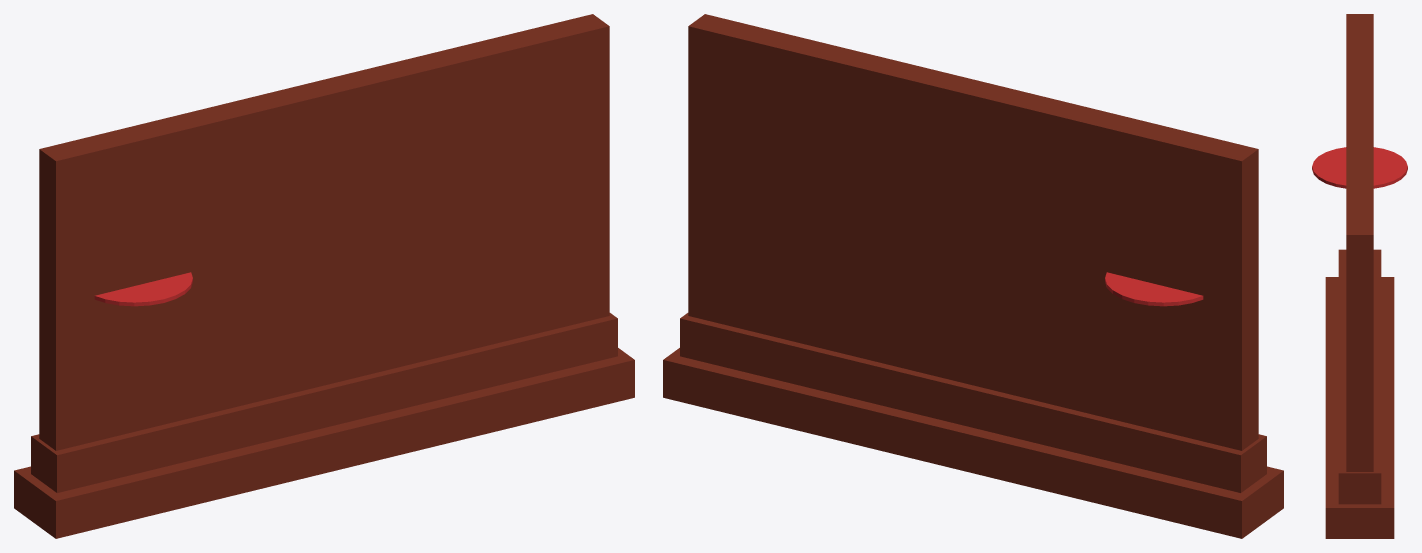
File: bảng chức danh đế gỗ ăn mòn.obj
3 views of the same model, side by side, from view 1: azimuth 30°, elevation 25°; view 2: azimuth 150°, elevation 25°; view 3: azimuth 270°, elevation 25° (orthographic). The views are drawn at different scales.
Visible parts, largest first — view 1: bang_chuc_danh_de_go_an_mon; view 2: bang_chuc_danh_de_go_an_mon; view 3: bang_chuc_danh_de_go_an_mon.
Boxes of the visible parts, x1=… form: bang_chuc_danh_de_go_an_mon: x1=14, y1=14, x2=634, y2=538; bang_chuc_danh_de_go_an_mon: x1=663, y1=14, x2=1283, y2=538; bang_chuc_danh_de_go_an_mon: x1=1312, y1=14, x2=1407, y2=538.
Size of the model in its own units: 0.32 by 0.193 by 0.056.
